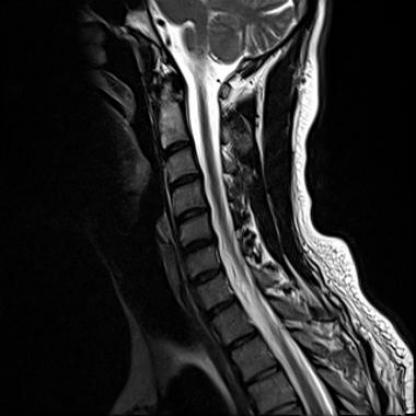Degenerative Disc Diseaserotation: (178, 239, 217, 254)
Disc Bulgerotation: (178, 239, 217, 254)
